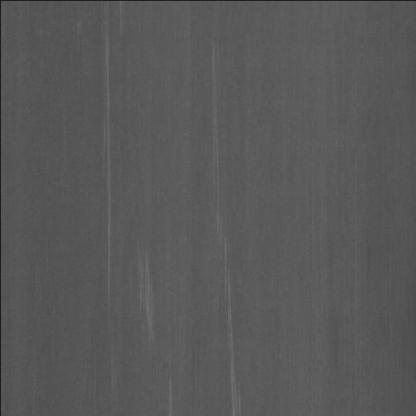silk_spot: (200, 30, 250, 412), (89, 23, 122, 322), (137, 238, 161, 340)
